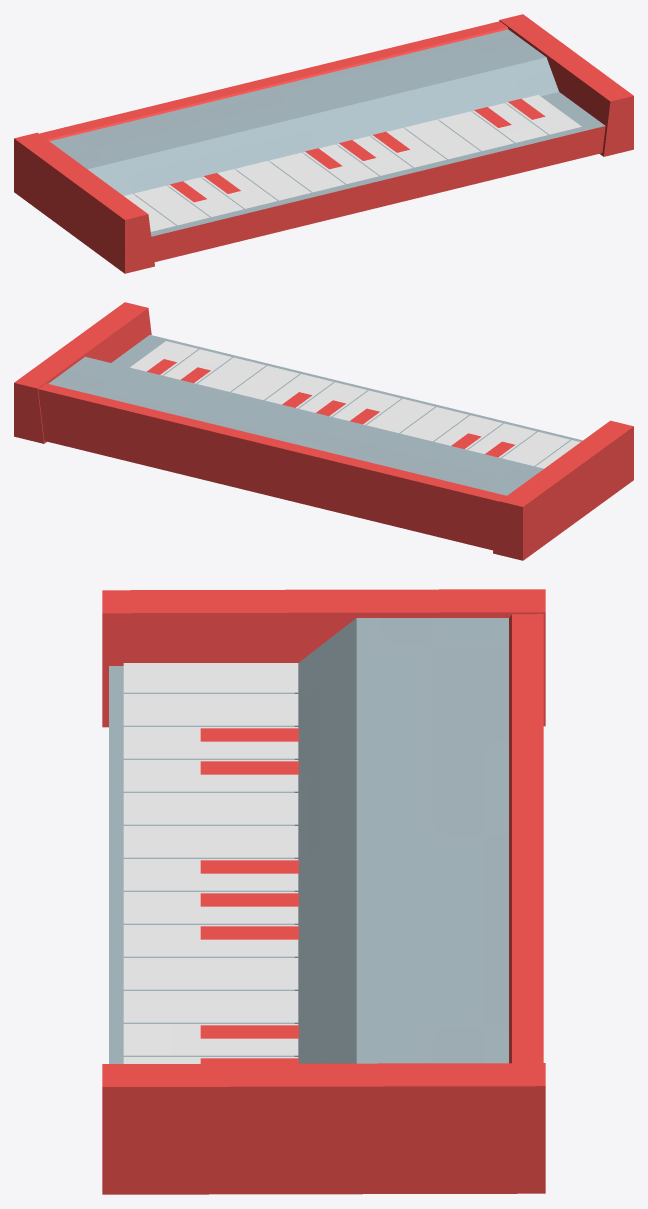
The model's file is toy_020.glb.
3 renders of one model, top to bottom at view 1: azimuth 30°, elevation 25°; view 2: azimuth 150°, elevation 25°; view 3: azimuth 270°, elevation 25°, orthographic. The views are drawn at different scales.
Visible parts, largest first — view 1: toy_020; view 2: toy_020; view 3: toy_020.
Part boxes in pixels (x1=…): toy_020: x1=14, y1=14, x2=633, y2=273; toy_020: x1=14, y1=302, x2=633, y2=560; toy_020: x1=102, y1=589, x2=545, y2=1194.
Bounding box in the file's own units: 0.8967 × 0.0914 × 0.3383.
1 material, 1 textured.
